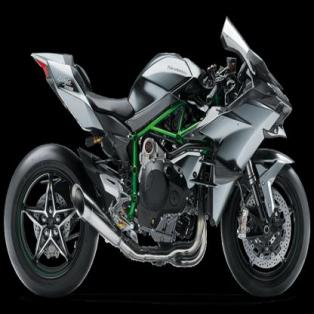Motocicleta: (1, 14, 312, 298)
